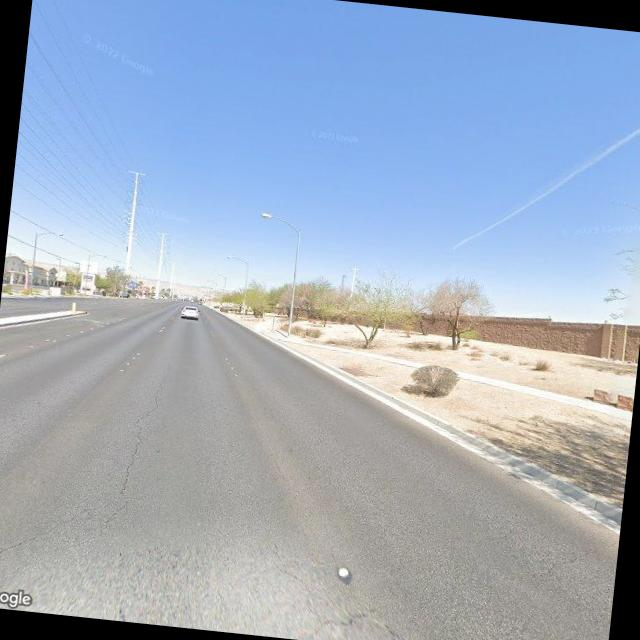pothole: (105, 379, 163, 536), (0, 518, 54, 596)
